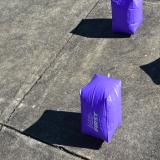cube: (79, 73, 122, 144), (111, 0, 143, 35)
